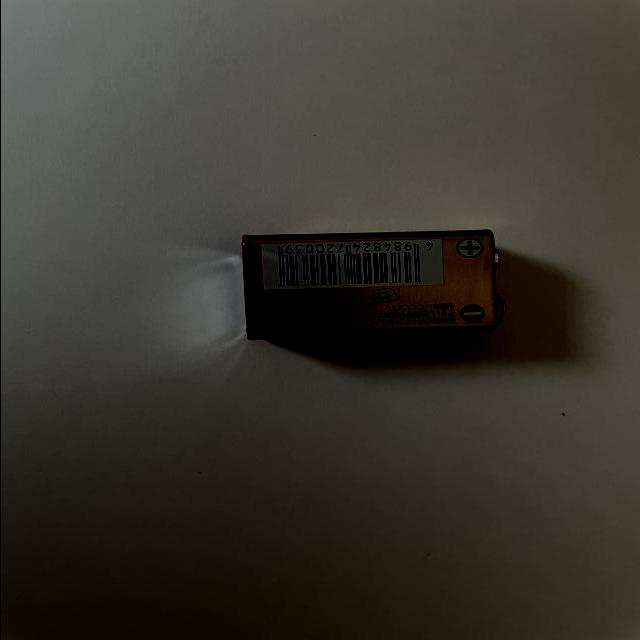9V: (238, 232, 507, 342)
